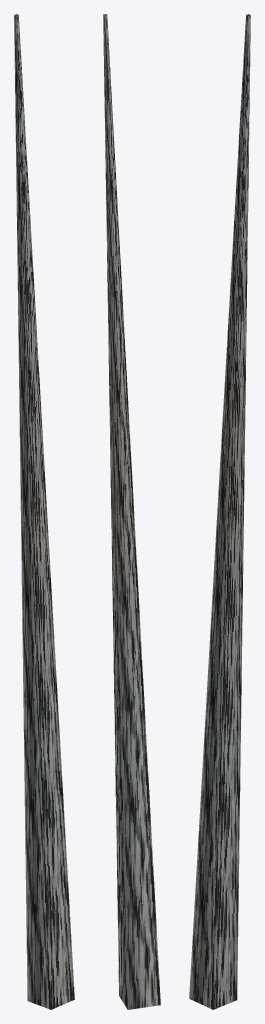
The model's file is pine_bark_l2.gltf.
3 views of the same model, side by side, from view 1: azimuth 90°, elevation 25°; view 2: azimuth 150°, elevation 25°; view 3: azimuth 270°, elevation 25° (orthographic).
Visible parts, largest first — view 1: pine_bark_l2; view 2: pine_bark_l2; view 3: pine_bark_l2.
Boxes of the visible parts, x1,y1,x2,y2 form: pine_bark_l2: (14, 14, 74, 1009); pine_bark_l2: (103, 14, 160, 1009); pine_bark_l2: (189, 14, 250, 1009).
Bounding box in the file's own units: 0.5279 × 12.01 × 0.6767.
Materials: 1 (1 with a texture image).
